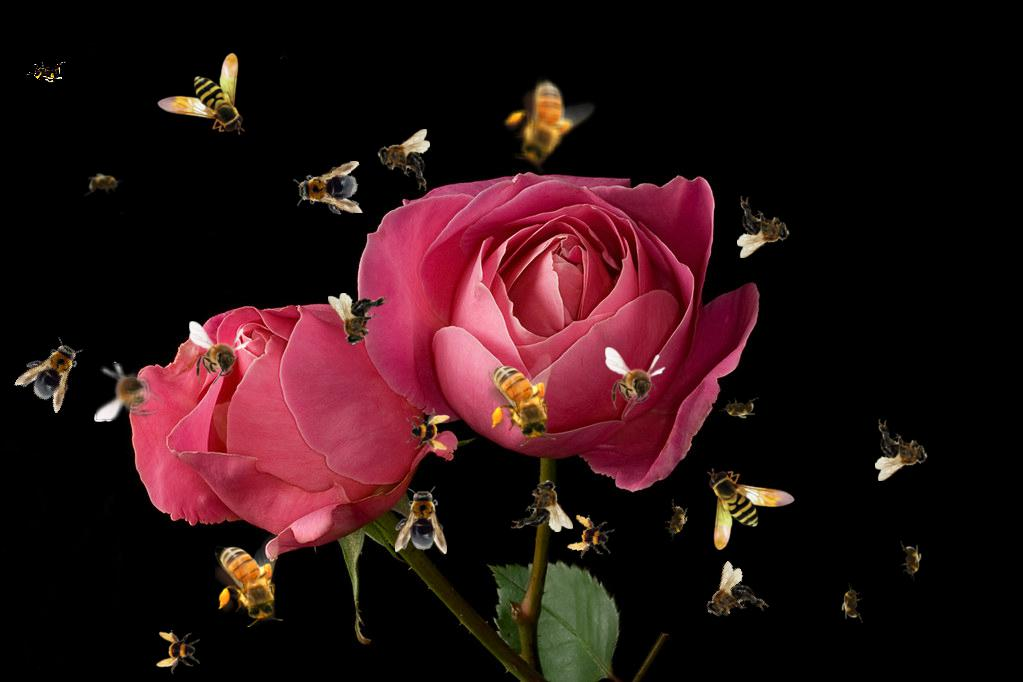Bee: (488, 64, 602, 179), (157, 53, 245, 135), (707, 468, 795, 550), (12, 328, 94, 414), (691, 558, 772, 640), (488, 353, 556, 446), (215, 534, 283, 627), (291, 160, 365, 220), (605, 347, 666, 417), (94, 361, 164, 422), (189, 321, 250, 391), (395, 486, 447, 554), (328, 293, 390, 346), (875, 419, 928, 481), (737, 196, 790, 258), (377, 129, 430, 191), (511, 479, 573, 532), (565, 512, 617, 564), (406, 408, 450, 452), (156, 630, 200, 674), (659, 498, 693, 544), (83, 172, 125, 196), (26, 61, 66, 83), (719, 397, 759, 419), (841, 583, 863, 623), (900, 541, 922, 581)
